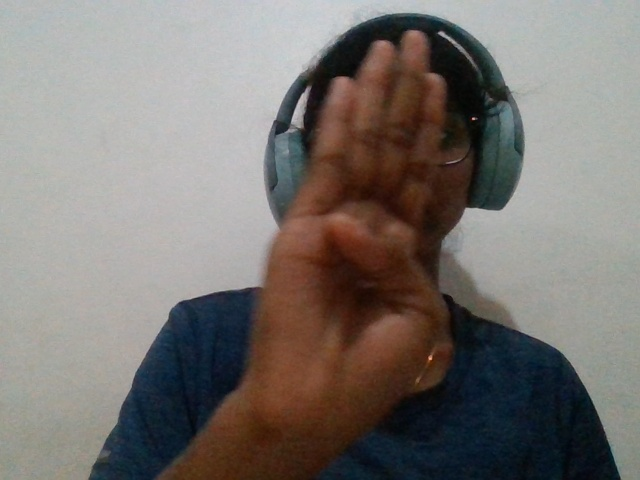B: (212, 24, 476, 477)
